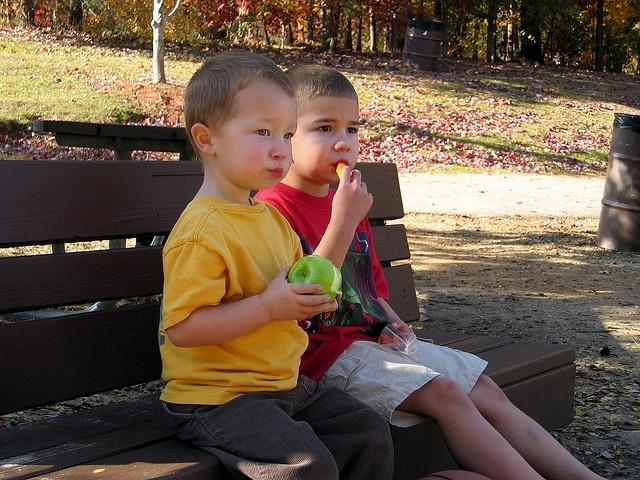apple: (288, 255, 342, 304)
carrot: (336, 162, 352, 182), (381, 334, 396, 344)
